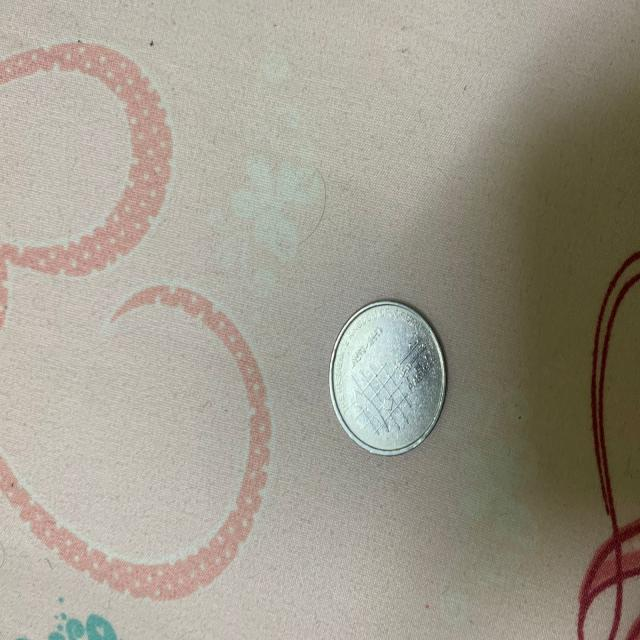10-coins: (330, 300, 448, 457)
